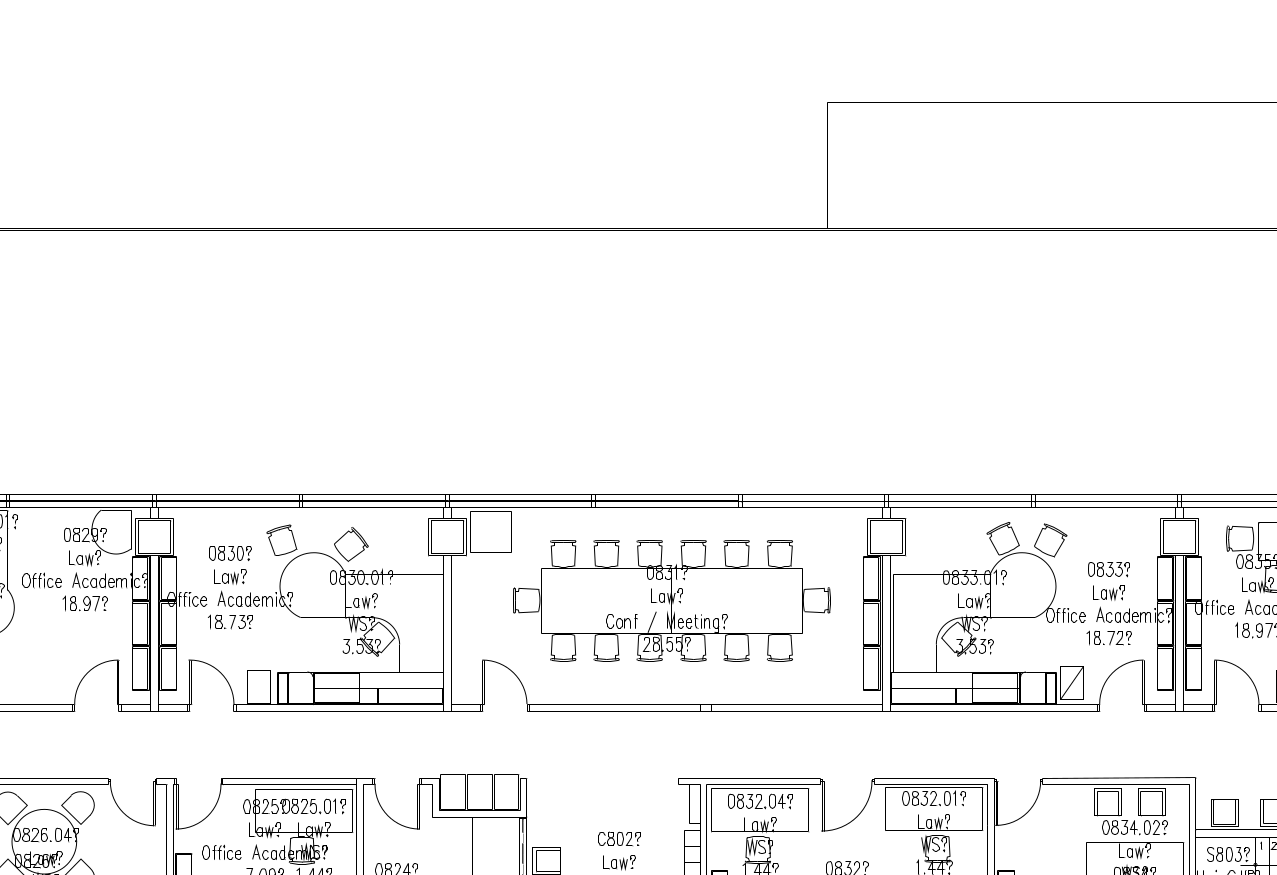door: (69, 655, 123, 719), (186, 653, 240, 717), (173, 770, 227, 834), (103, 771, 157, 835), (479, 654, 533, 718), (369, 774, 423, 838), (820, 772, 874, 836), (992, 772, 1046, 836), (1095, 653, 1149, 717), (1211, 653, 1265, 717)
